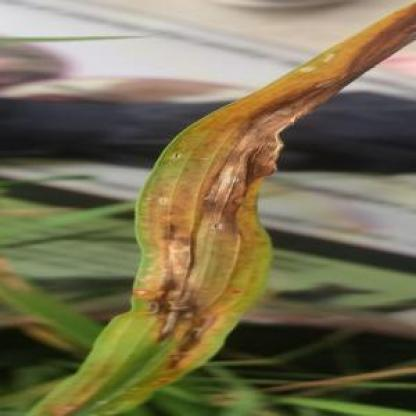Rice blast: (36, 2, 416, 416)
